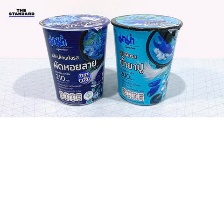paper_cup: (34, 8, 113, 109), (107, 8, 185, 109)
